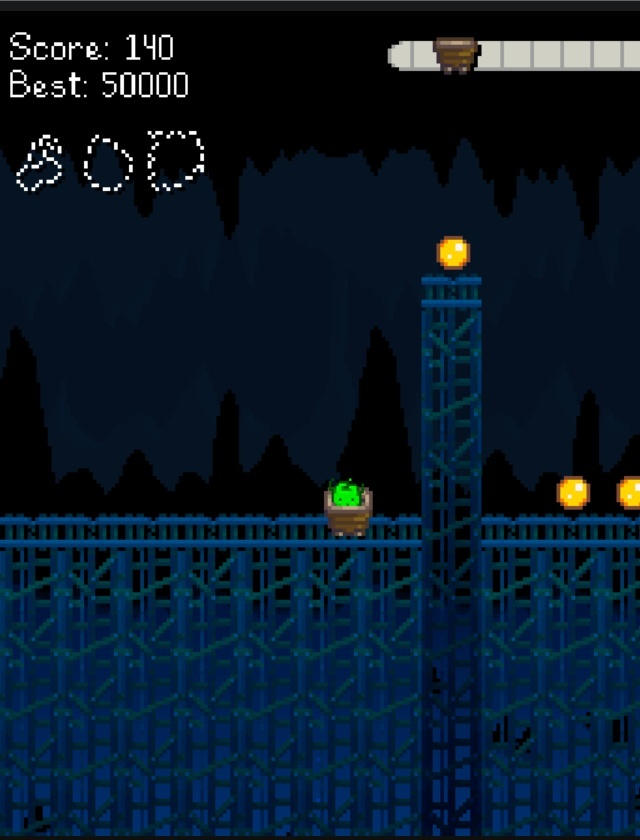coins: (556, 476, 589, 510), (436, 237, 469, 269), (618, 477, 639, 510)
minecart: (325, 489, 371, 535)
tracks: (2, 515, 420, 564), (485, 516, 639, 549), (414, 266, 493, 309)
